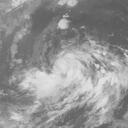cyclone: (19, 40, 124, 112)
